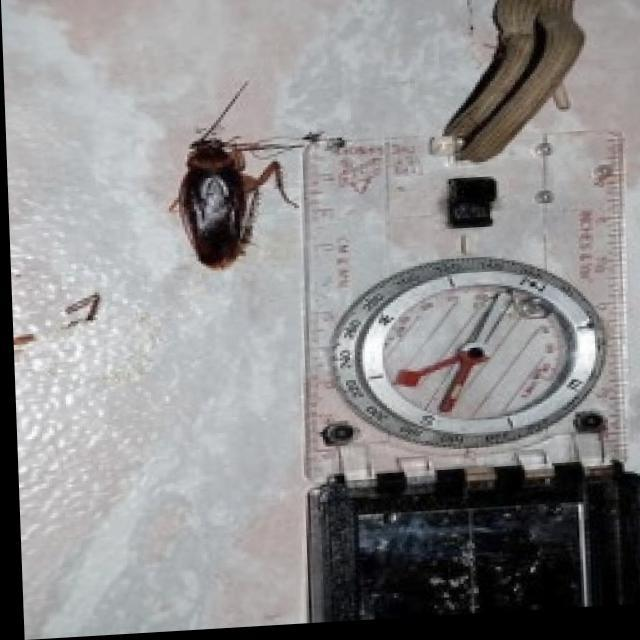cockroach: (166, 88, 282, 264)
